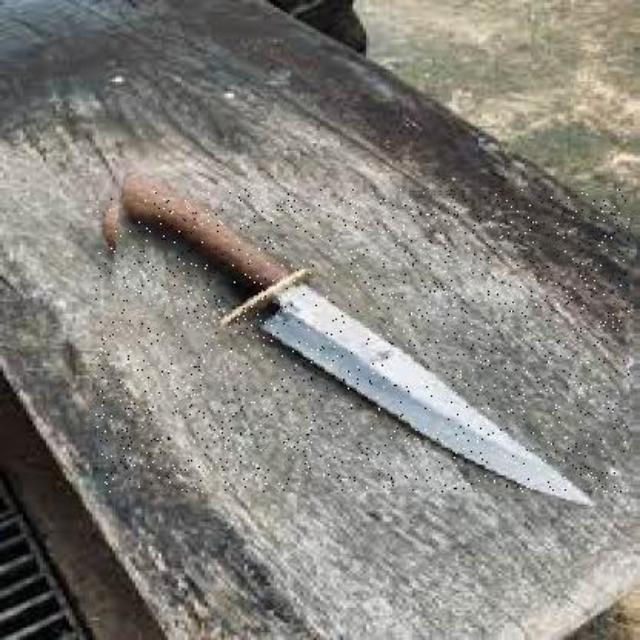Knife: (96, 190, 628, 492)
